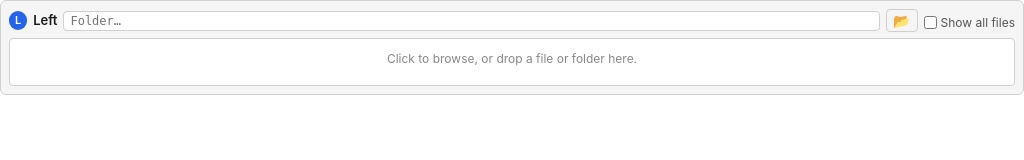
Test case: FilePanel › browses, stores the parent dir and reloads the listing
Click the button named "Browse…": click(902, 20) [886,9,918,32]
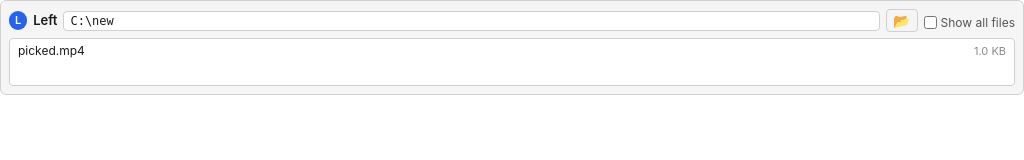
Now the text "picked.mp4" is shown, box [18,43,85,58]
